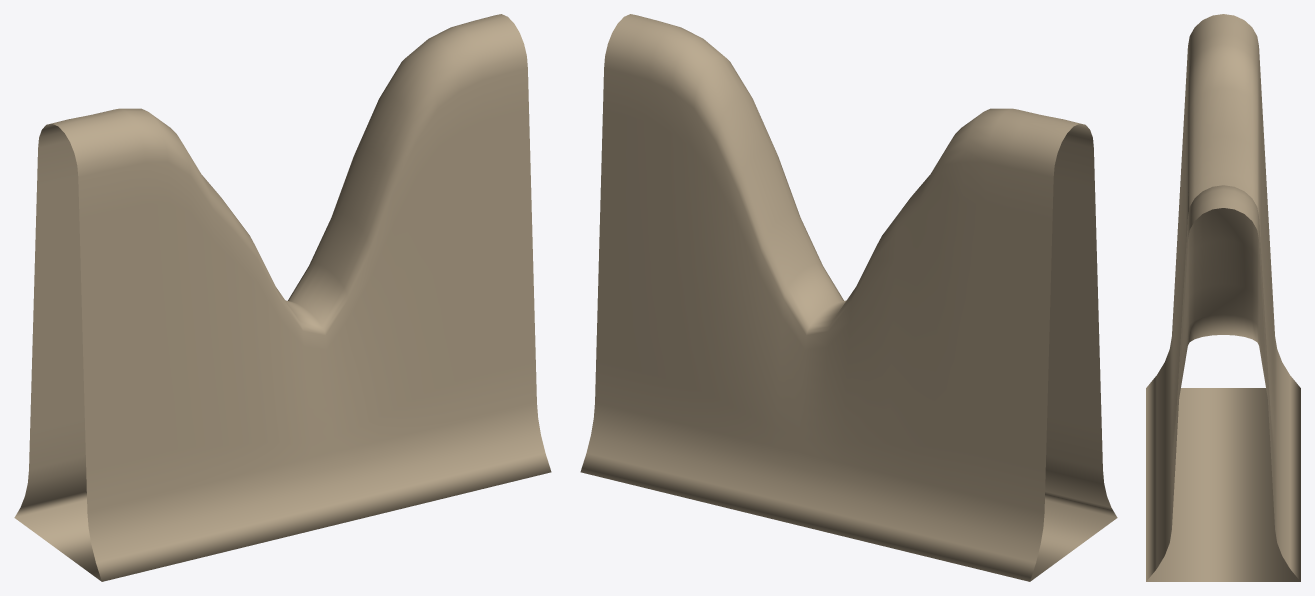
The model's file is KFB_Wall_broken.r1.glb.
3 renders of one model, left to right at view 1: azimuth 30°, elevation 25°; view 2: azimuth 150°, elevation 25°; view 3: azimuth 270°, elevation 25°, orthographic. The views are drawn at different scales.
Parts seen in each view (by area): view 1: KFB_Wall_broken; view 2: KFB_Wall_broken; view 3: KFB_Wall_broken.
Boxes of the visible parts, left/top/right/bottom form: KFB_Wall_broken: left=14, top=14, right=551, bottom=581; KFB_Wall_broken: left=580, top=14, right=1117, bottom=581; KFB_Wall_broken: left=1146, top=14, right=1300, bottom=581.
Bounding box in the file's own units: 4 × 3.6 × 1.35.
